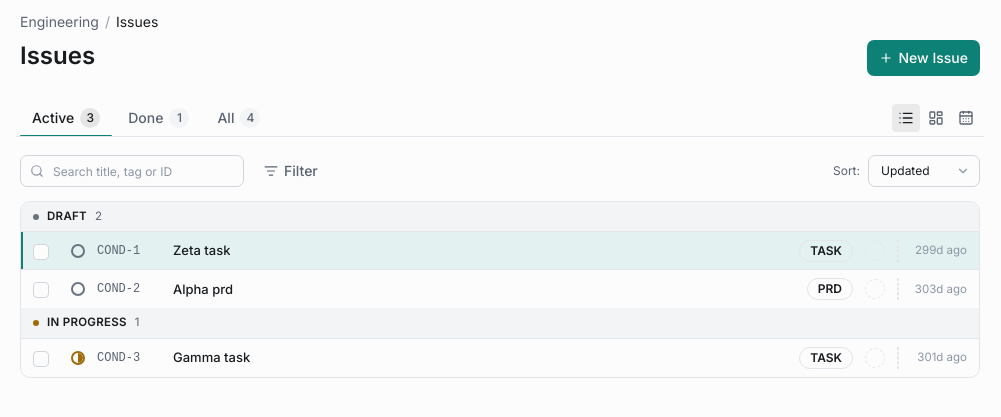
Test: tab counts + filtering › adds and removes a Type filter pill
Expected: the number of links is 3, [97,242,230,258]; [97,280,233,296]; [97,349,250,365]
Click the button "Filter": [291, 171] box [252,153,330,189]
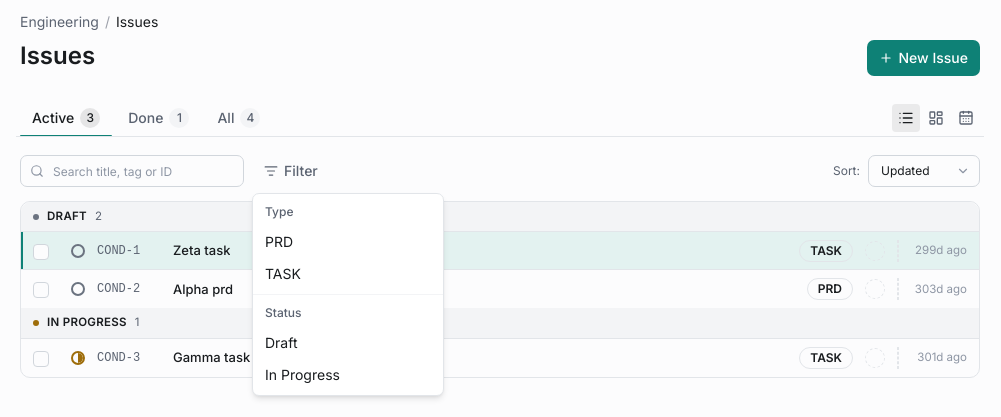
Click the menu item "TASK": [283, 274] box [265,265,301,282]
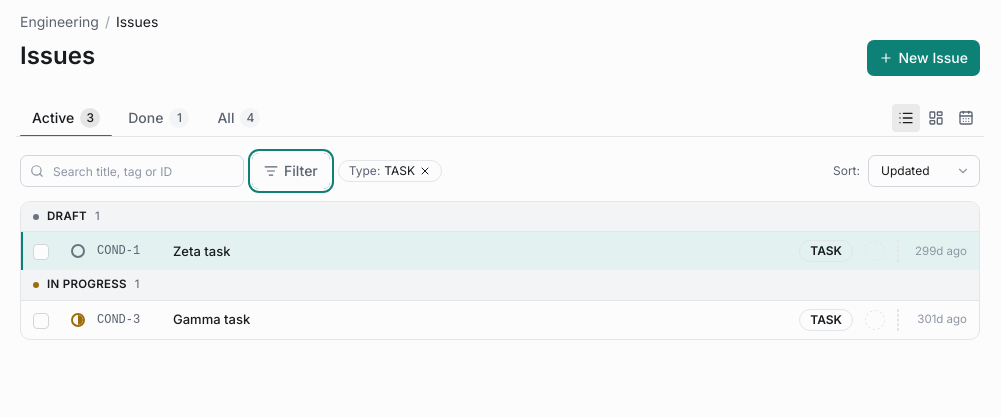
Now the number of links is 2, box [97,242,230,258]; [97,311,250,327]
Click the button named "Remove type filter": [425, 171] box [419,165,431,177]
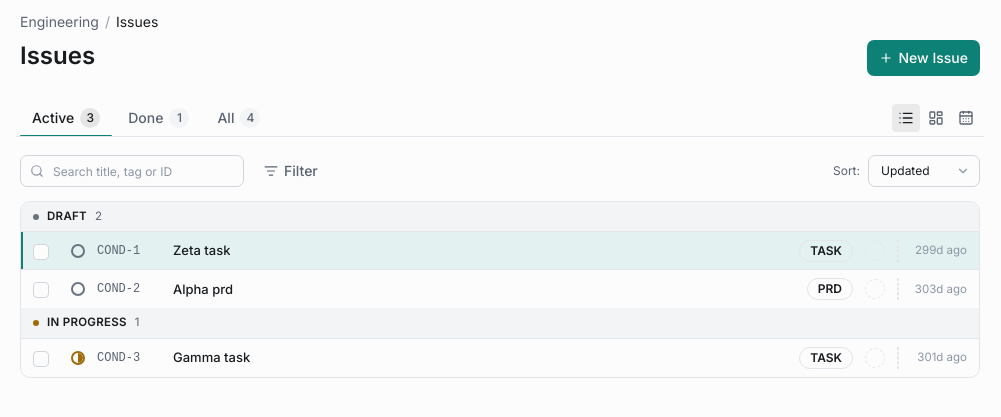
Now the number of links is 3, box [97,242,230,258]; [97,280,233,296]; [97,349,250,365]
